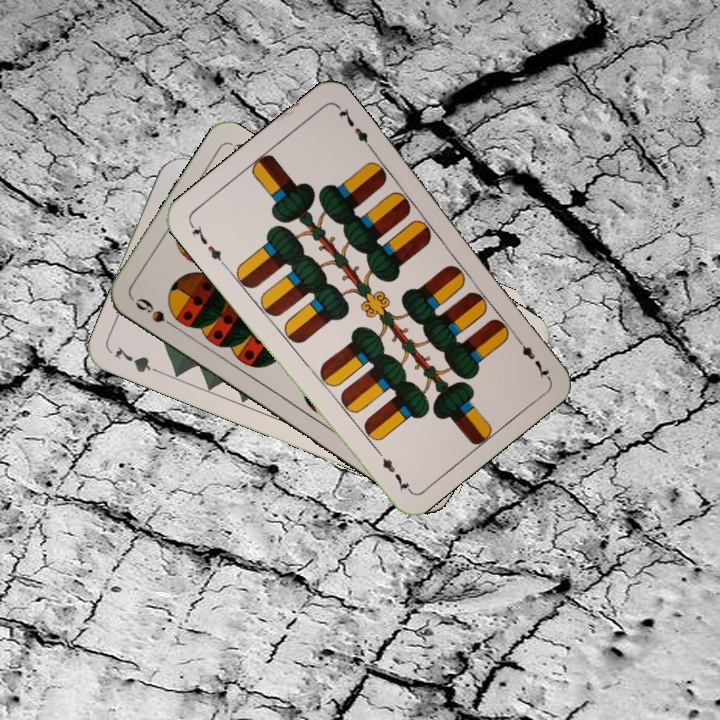E7: (510, 330, 552, 381), (185, 219, 228, 268)
G7: (110, 342, 167, 377)
S9: (131, 293, 182, 333)
